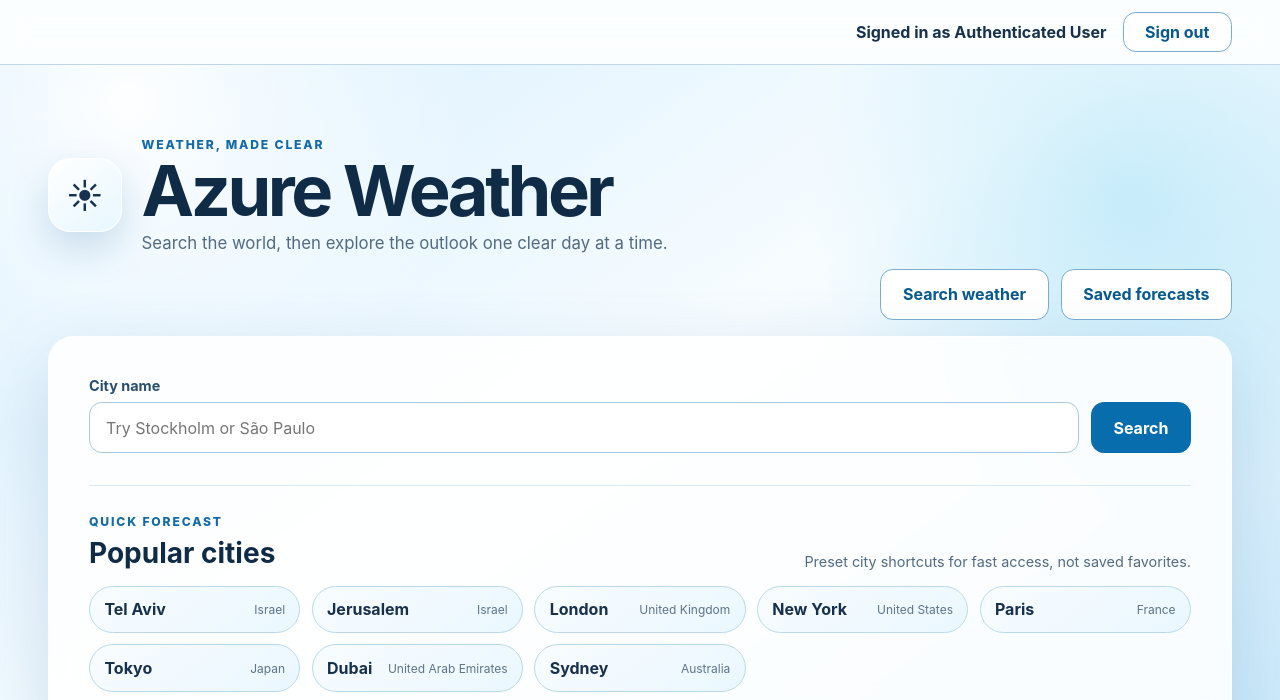
Test: App › saves only the selected forecast date with its coordinates
The image size is (1280, 700).
Expected: the text "Signed in as Authenticated User" is shown, top-left (856, 22), bottom-right (1106, 42)
Type "London" into the search field labelled "City name" at (584,428), box top-left (89, 402), bottom-right (1079, 453)
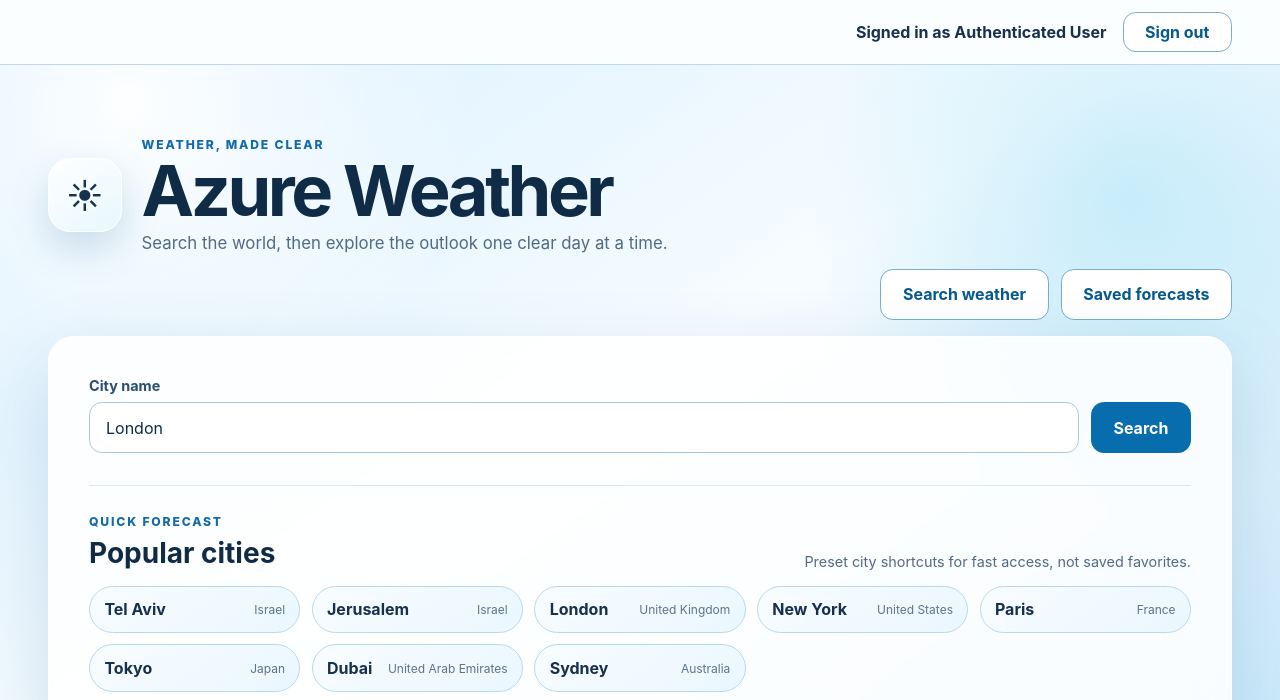
Click the button "Search" at (1141,428), box top-left (1091, 402), bottom-right (1191, 453)
(page scrolled)
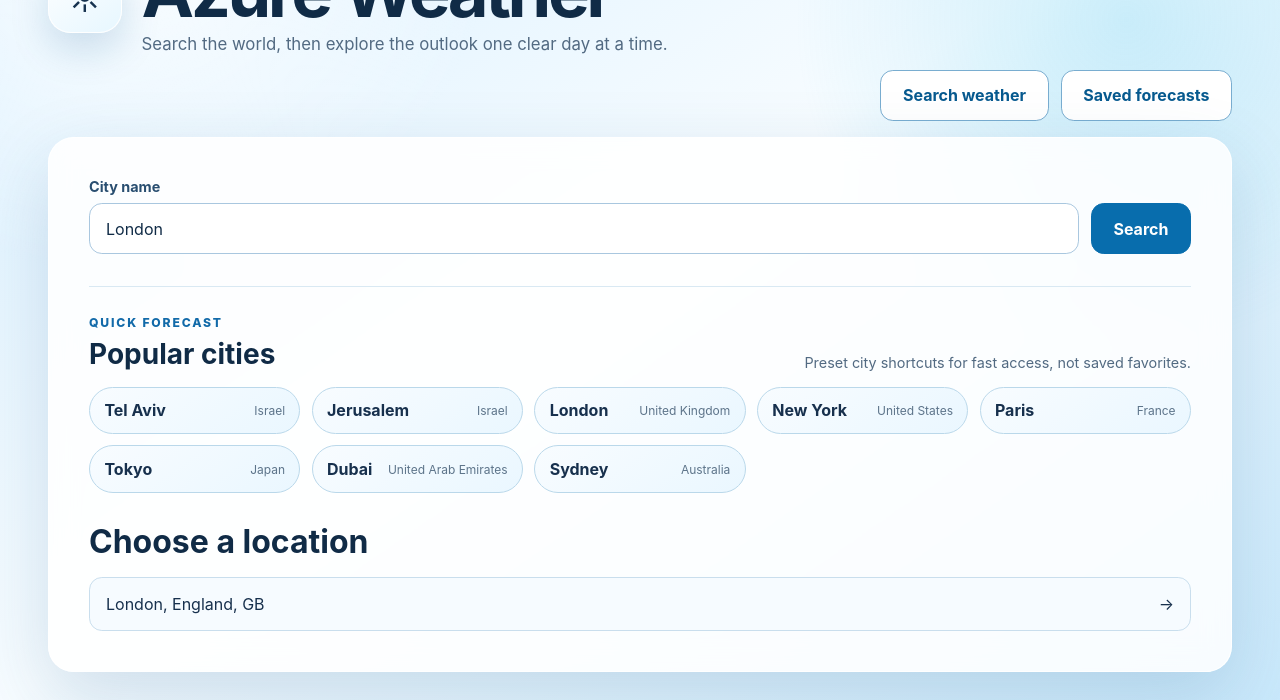
Click the button "London, England, GB →" at (185,604), box top-left (89, 577), bottom-right (1191, 631)
(page scrolled)
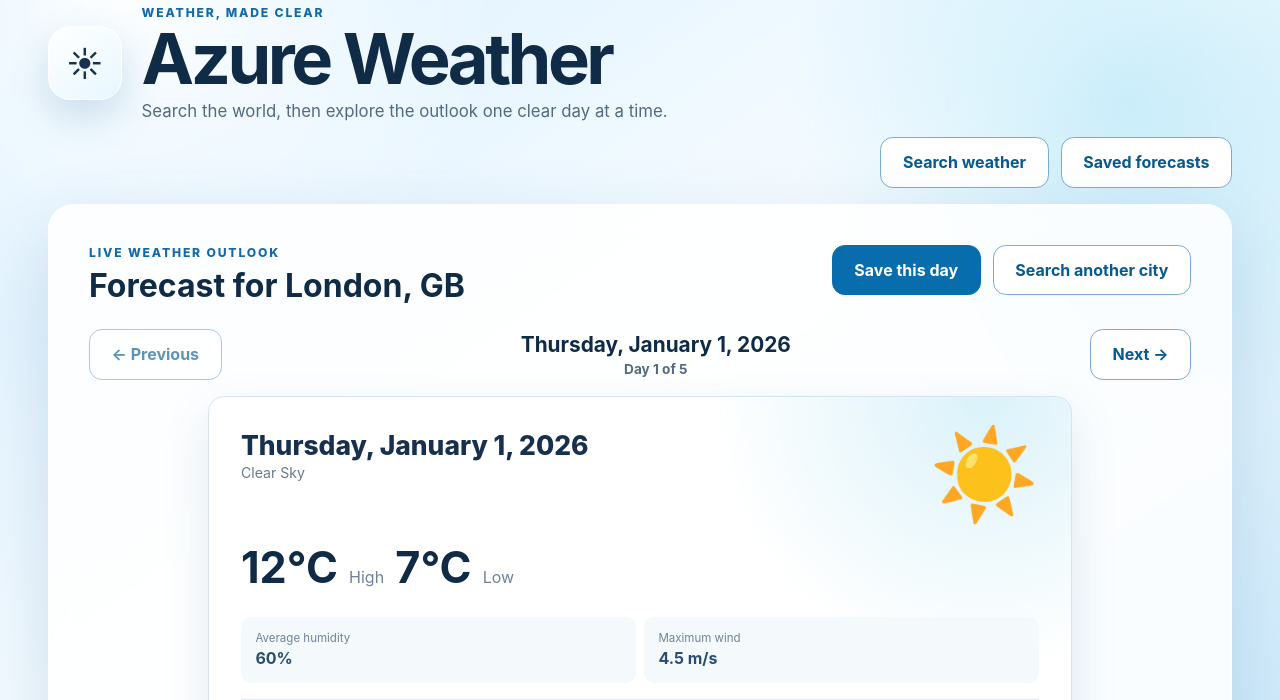
Expected: the button "Save this day" is shown, top-left (832, 245), bottom-right (981, 295)
Click the button with aria-label "Next forecast day" at (1140,354), box top-left (1090, 329), bottom-right (1191, 380)
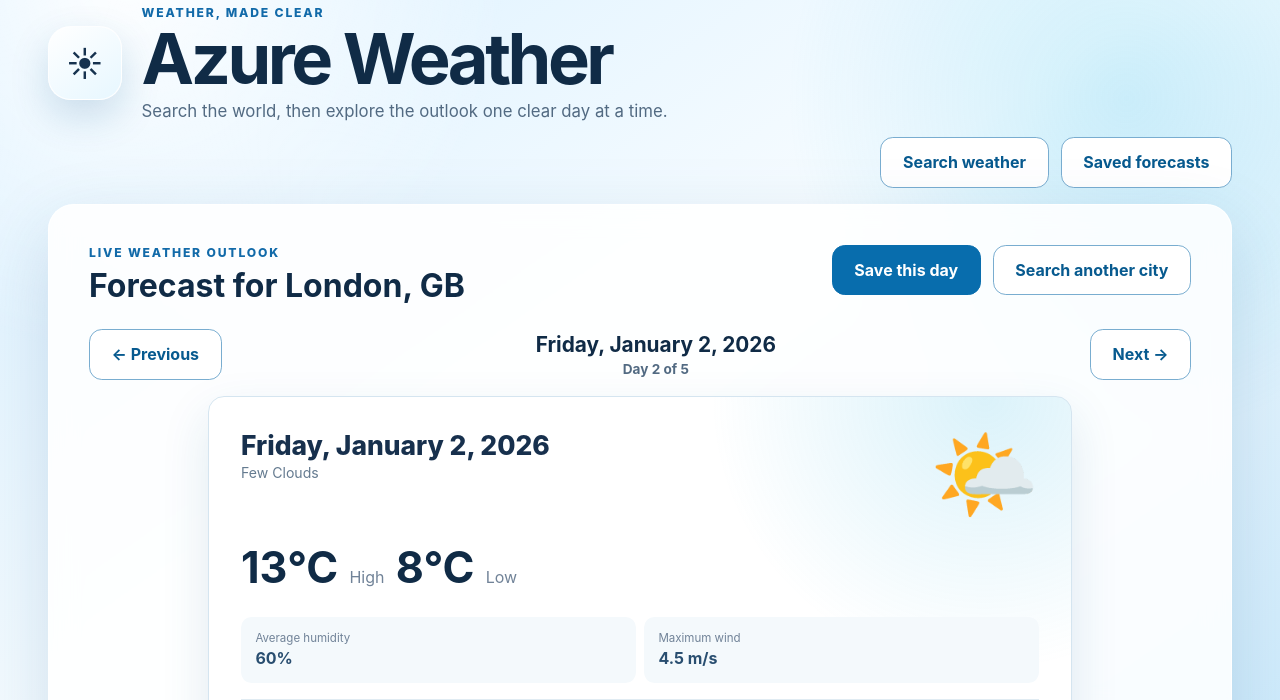
Click the button "Save this day" at (906,270), box top-left (832, 245), bottom-right (981, 295)
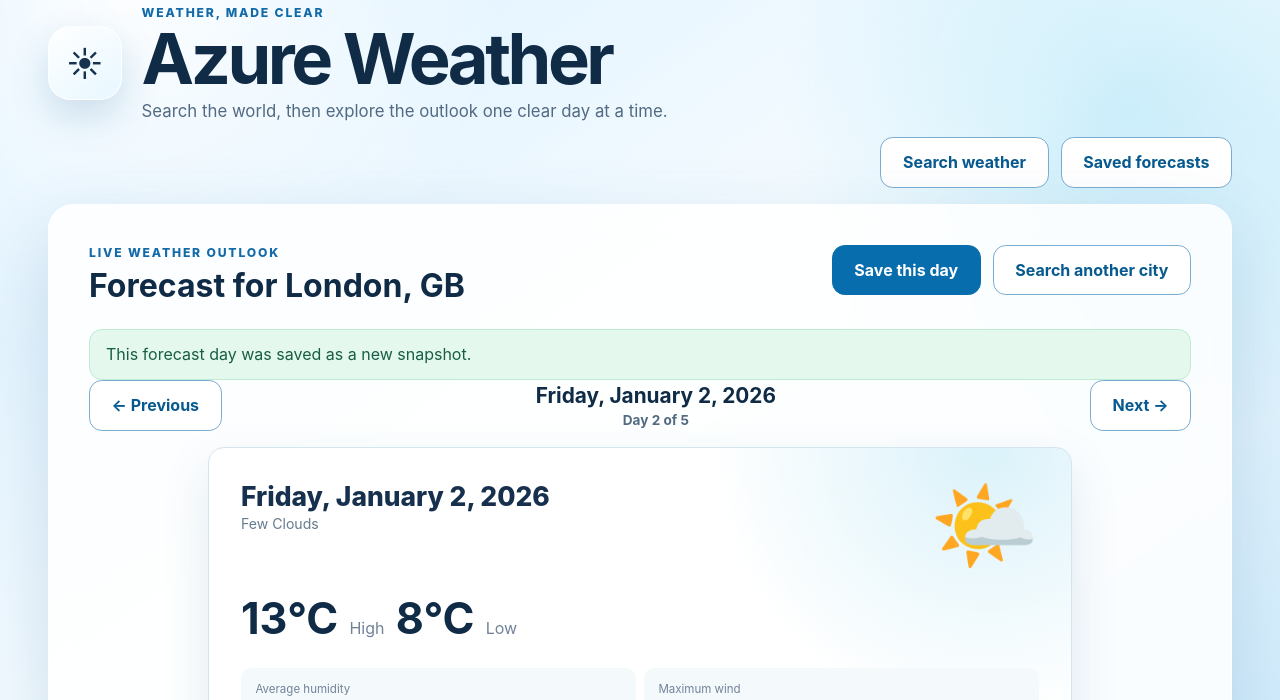
Expected: the text "This forecast day was saved as a new snapshot." is shown, top-left (89, 329), bottom-right (1191, 380)
